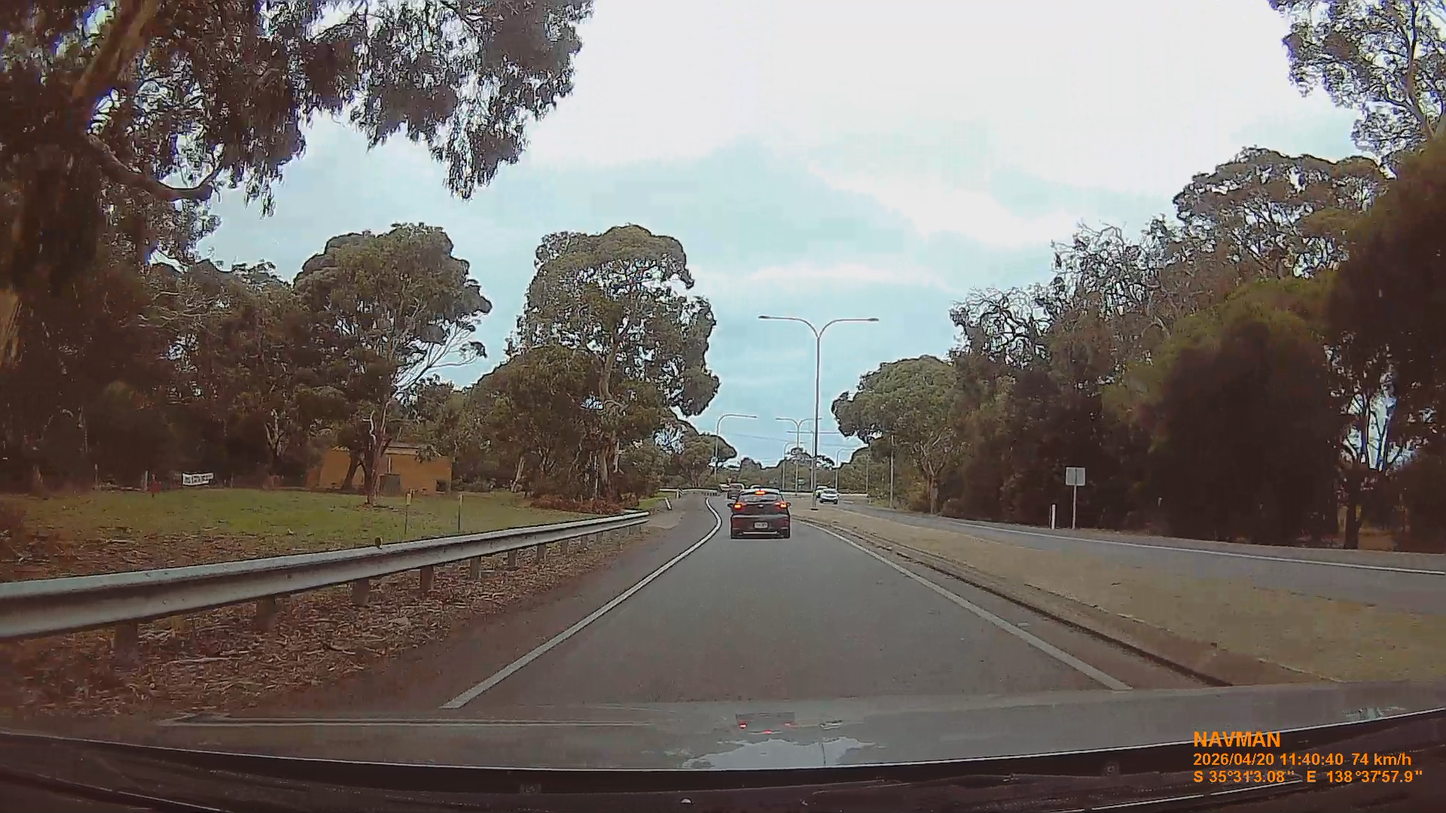road barriers: (2, 509, 659, 638)
